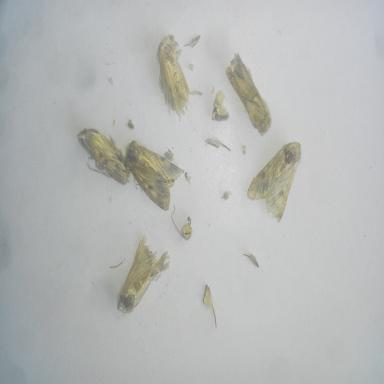abw: (244, 138, 304, 226), (123, 134, 186, 214), (115, 234, 171, 318), (222, 48, 274, 138), (74, 124, 133, 189), (154, 30, 195, 122)
